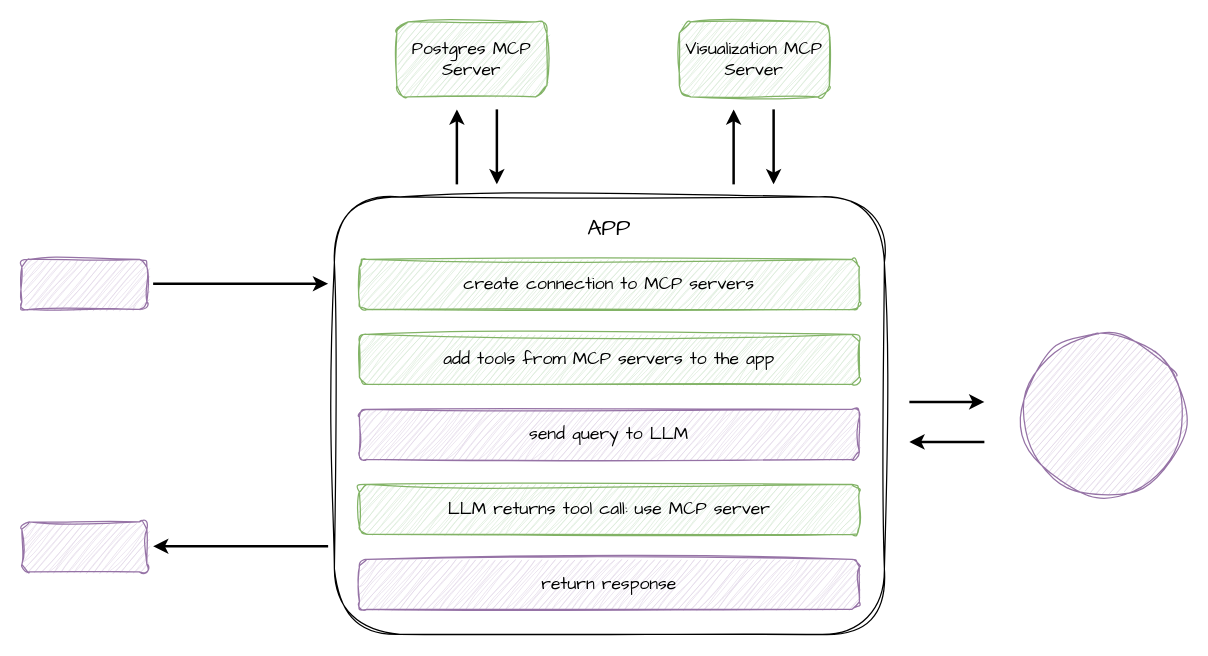
Some shapes in this 1208 by 656 pixel diagram are drawn without their labels. Each missing label, with the centre of its shape:
LLM (Anthropic): point 1104,415
query: point 84,283
response: point 84,546
